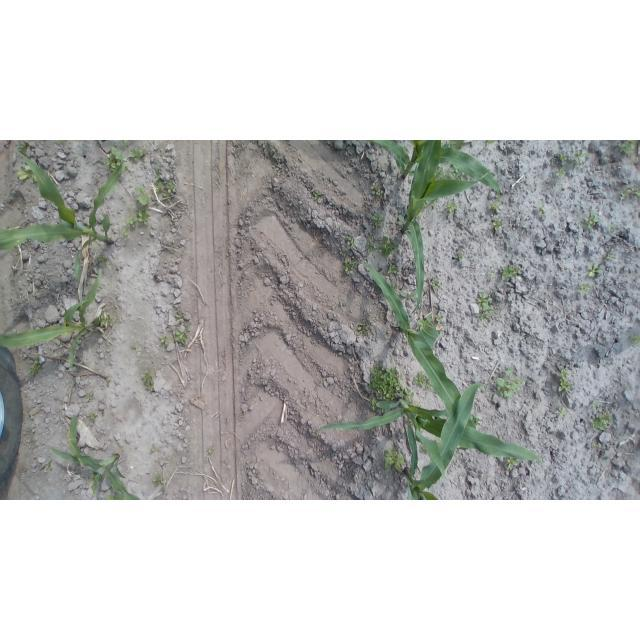Maize: (349, 262, 476, 450), (320, 398, 545, 479), (1, 143, 124, 280), (401, 141, 489, 316), (0, 268, 100, 370), (405, 380, 486, 500), (46, 411, 140, 500), (364, 141, 501, 200)
Weeds: (369, 364, 413, 401), (497, 367, 523, 398), (474, 291, 495, 323), (383, 444, 404, 472), (374, 236, 401, 257), (589, 411, 614, 431), (617, 181, 640, 202), (104, 145, 122, 171), (153, 180, 176, 198), (175, 326, 193, 346), (502, 263, 521, 281), (571, 150, 589, 169), (557, 368, 571, 392), (582, 211, 600, 229), (134, 187, 151, 206), (586, 262, 604, 278), (129, 148, 148, 163), (618, 140, 638, 154), (141, 368, 153, 391), (30, 357, 43, 376), (18, 165, 33, 181), (371, 182, 386, 196), (413, 372, 427, 387), (400, 289, 416, 302), (138, 208, 150, 225), (364, 232, 374, 252), (100, 313, 112, 328), (152, 472, 164, 487), (555, 406, 570, 418), (493, 216, 503, 233), (577, 283, 591, 295), (342, 259, 354, 273), (371, 212, 383, 226), (448, 167, 462, 179), (417, 316, 432, 327), (447, 200, 458, 215), (602, 248, 615, 260), (125, 216, 137, 229), (554, 151, 568, 161), (471, 413, 481, 427), (159, 333, 170, 345), (359, 323, 370, 334), (537, 203, 548, 214), (97, 255, 106, 268), (154, 166, 162, 180), (431, 278, 441, 289), (557, 167, 568, 177), (17, 143, 27, 154), (348, 236, 357, 248), (631, 332, 640, 344), (507, 458, 516, 470), (489, 200, 500, 209), (398, 214, 406, 226), (436, 315, 445, 325), (455, 252, 465, 261), (205, 447, 215, 456), (438, 166, 445, 178), (388, 265, 397, 274), (312, 192, 321, 201), (86, 413, 95, 422), (607, 224, 617, 232), (117, 140, 127, 148), (591, 400, 599, 410), (122, 226, 129, 237), (488, 269, 497, 277), (314, 382, 322, 391), (372, 398, 377, 411), (338, 300, 346, 308), (87, 392, 94, 401), (55, 140, 67, 145), (339, 251, 348, 257), (150, 444, 156, 453), (45, 462, 51, 471), (486, 141, 496, 146), (123, 161, 128, 171), (430, 205, 437, 212), (174, 312, 182, 318), (312, 429, 318, 437), (592, 441, 600, 447), (33, 175, 38, 184), (289, 198, 294, 206), (131, 344, 137, 350), (631, 158, 638, 163), (437, 439, 442, 446), (422, 447, 426, 453), (436, 198, 440, 203), (392, 284, 396, 289), (420, 227, 424, 231), (448, 141, 455, 143), (382, 409, 385, 413)
